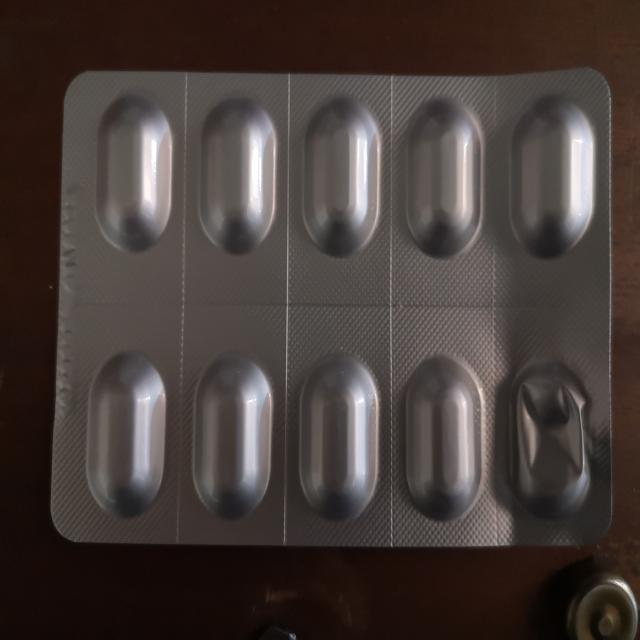Empty: (502, 348, 598, 518)
Pill: (293, 345, 381, 531), (80, 339, 171, 515), (189, 341, 275, 526), (400, 352, 487, 529), (505, 96, 596, 261), (298, 90, 383, 264), (194, 93, 281, 258), (92, 88, 176, 258), (401, 90, 484, 262)
